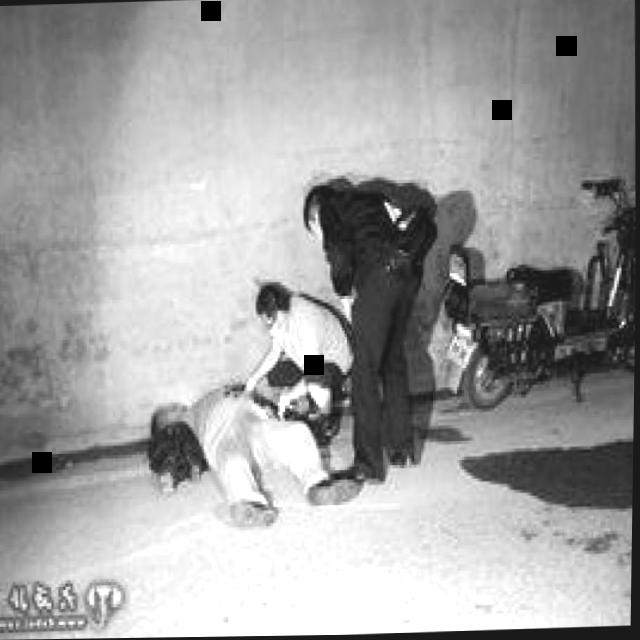Fall-Detected: (132, 346, 374, 528)
